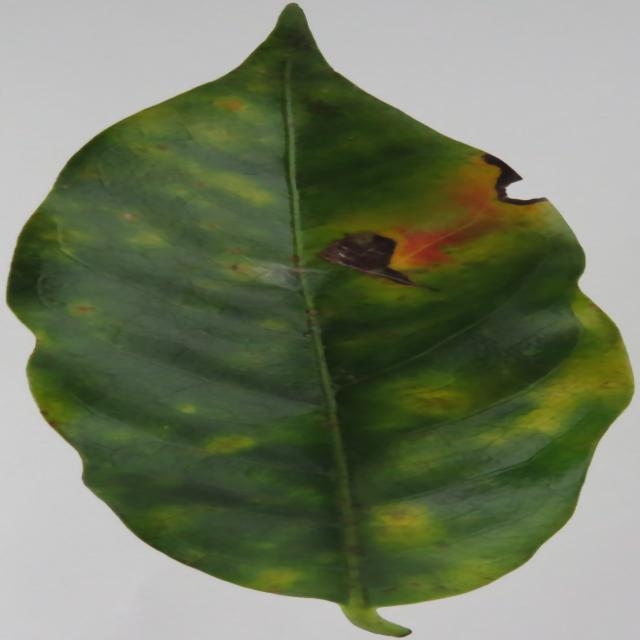DeficienciaNutricional-Fosforo: (8, 5, 631, 636)
